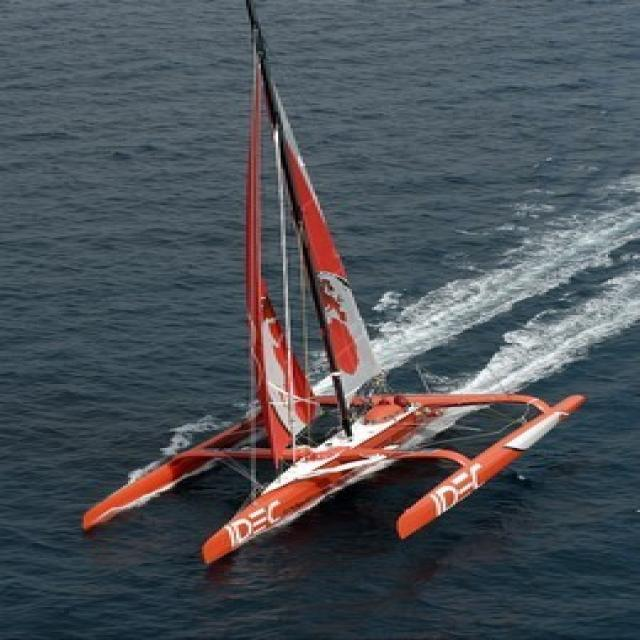Ship: (55, 4, 587, 563)
